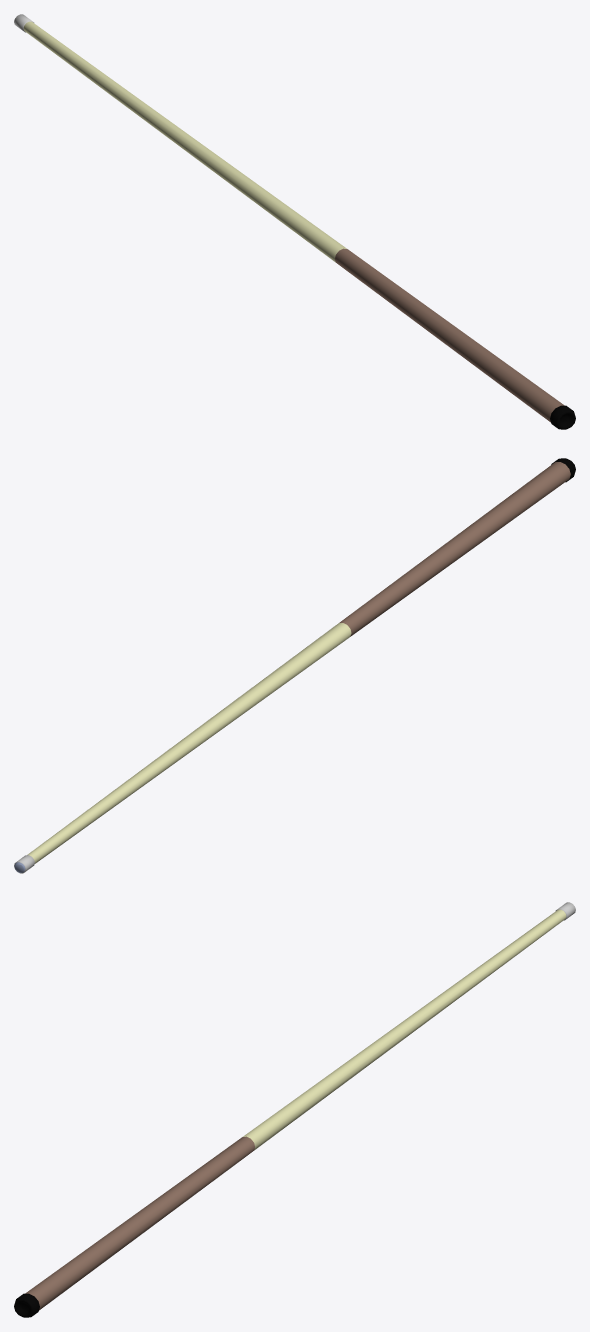
File: cue.fbx
3 renders of one model, top to bottom at view 1: azimuth 30°, elevation 25°; view 2: azimuth 150°, elevation 25°; view 3: azimuth 330°, elevation 25°, orthographic.
Visible parts, largest first — view 1: Pool_Stick, Pool_Stick2; view 2: Pool_Stick, Pool_Stick2; view 3: Pool_Stick, Pool_Stick2.
Boxes of the visible parts, x1=… form: Pool_Stick: x1=23, y1=21, x2=346, y2=262; Pool_Stick2: x1=335, y1=248, x2=564, y2=422; Pool_Stick: x1=27, y1=623, x2=351, y2=863; Pool_Stick2: x1=339, y1=462, x2=570, y2=636; Pool_Stick: x1=243, y1=909, x2=566, y2=1150; Pool_Stick2: x1=25, y1=1136, x2=254, y2=1310.
Bounding box in the file's own units: 6.83 × 6.34 × 295.
